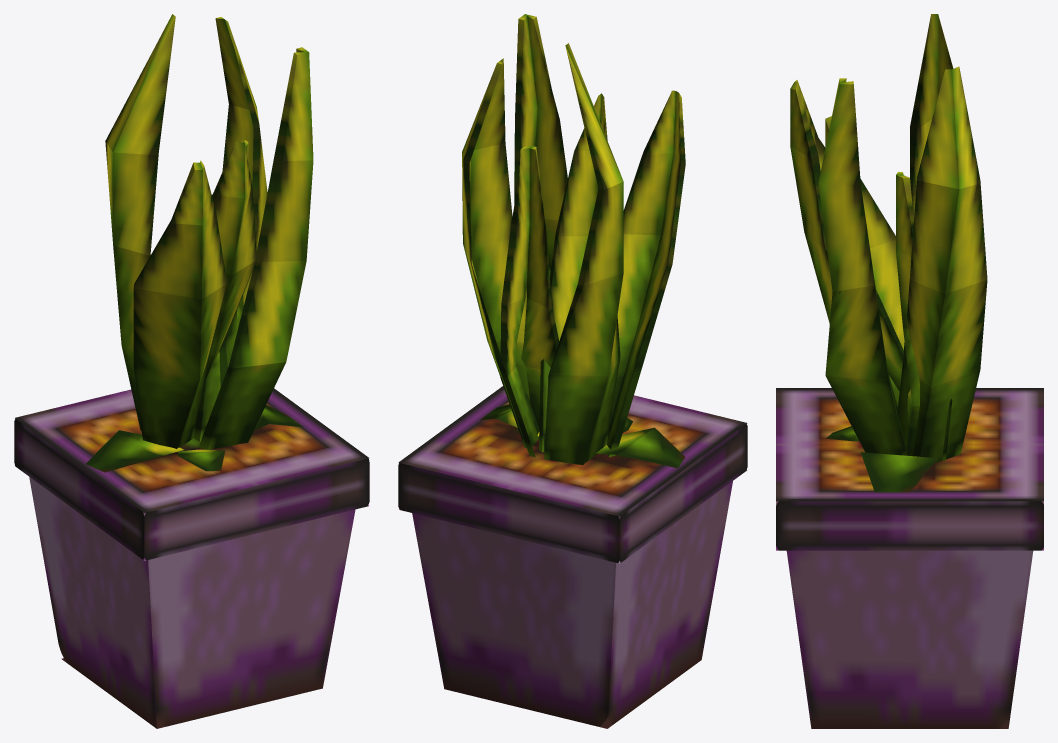
Rendered from Poly_SF_Outside_B_Plant_01.obj.
3 renders of one model, left to right at view 1: azimuth 30°, elevation 25°; view 2: azimuth 150°, elevation 25°; view 3: azimuth 270°, elevation 25°, orthographic. The views are drawn at different scales.
Parts seen in each view (by area): view 1: Cube.006, Cube.003, Cube.005, Cube.001, Cube.004, Cube.007, Cube.002; view 2: Cube.006, Cube.001, Cube.003, Cube.002, Cube.005, Cube.004, Cube.007; view 3: Cube.006, Cube.001, Cube.005, Cube.003, Cube.004, Cube.002, Cube.007.
Boxes of the visible parts, <box> form: Cube.006: <box>14,388,369,728</box>; Cube.003: <box>133,160,226,448</box>; Cube.005: <box>198,47,313,449</box>; Cube.001: <box>105,14,267,430</box>; Cube.004: <box>203,140,256,384</box>; Cube.007: <box>86,405,303,472</box>; Cube.002: <box>193,140,248,441</box>; Cube.006: <box>398,386,747,728</box>; Cube.001: <box>462,43,623,464</box>; Cube.003: <box>607,90,685,457</box>; Cube.002: <box>500,146,559,447</box>; Cube.005: <box>514,14,567,276</box>; Cube.004: <box>539,93,607,452</box>; Cube.007: <box>480,404,685,468</box>; Cube.006: <box>776,388,1043,728</box>; Cube.001: <box>897,14,987,463</box>; Cube.005: <box>818,78,906,455</box>; Cube.003: <box>790,80,899,412</box>; Cube.004: <box>825,116,904,391</box>; Cube.002: <box>896,171,952,460</box>; Cube.007: <box>826,426,937,492</box>.
Bounding box in the file's own units: 0.38 × 1.05 × 0.38.
Materials: 1 (1 with a texture image).
